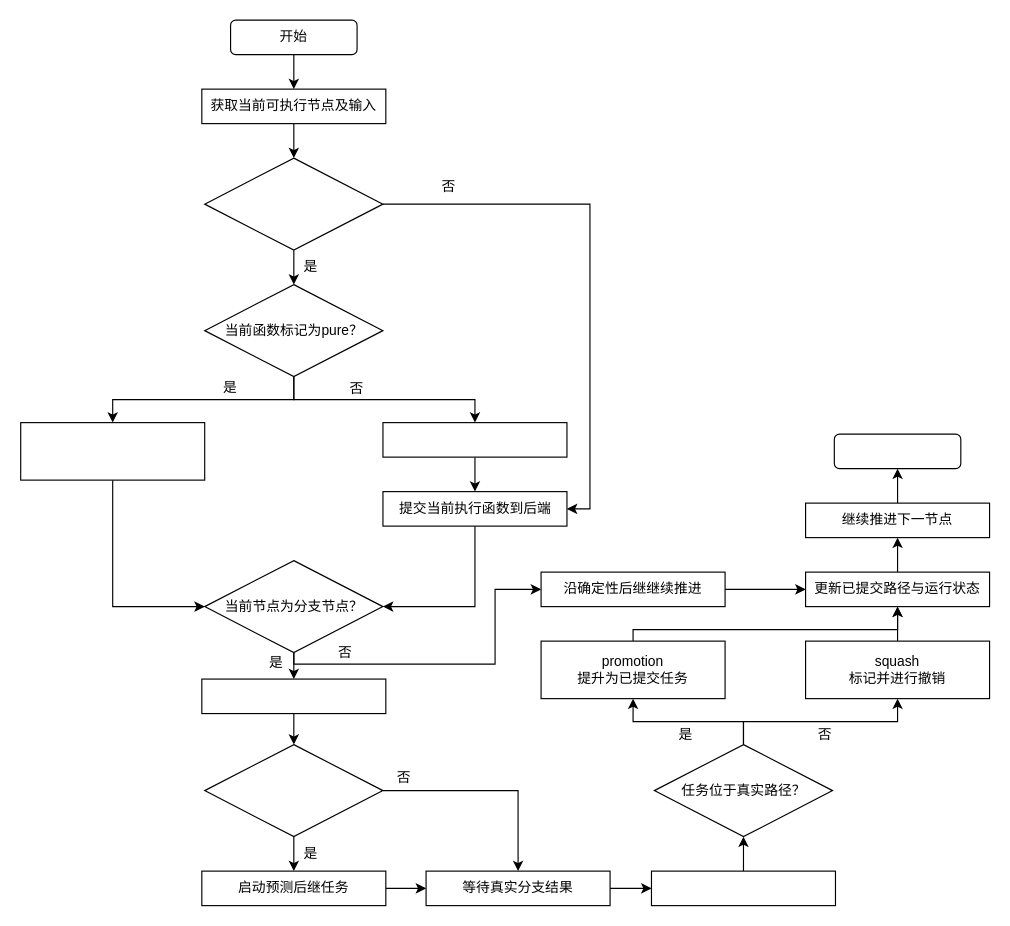
Some shapes in this 1010 by 926 pixel diagram are drawn without their labels. The shapes that lost their labels are listed below. From the top down, each one's centre as x and y in pixels, then its label:
At point 293,203: "命中记忆表".
At point 112,450: "直接复用记忆表输出 并跳过当前函数执行".
At point 474,439: "利用记忆表提前启动后继函数".
At point 897,451: "结束".
At point 293,696: "调用预测器生成候选后继".
At point 293,790: "满足投机触发条件？".
At point 742,888: "对已启动任务进行路径确认".
